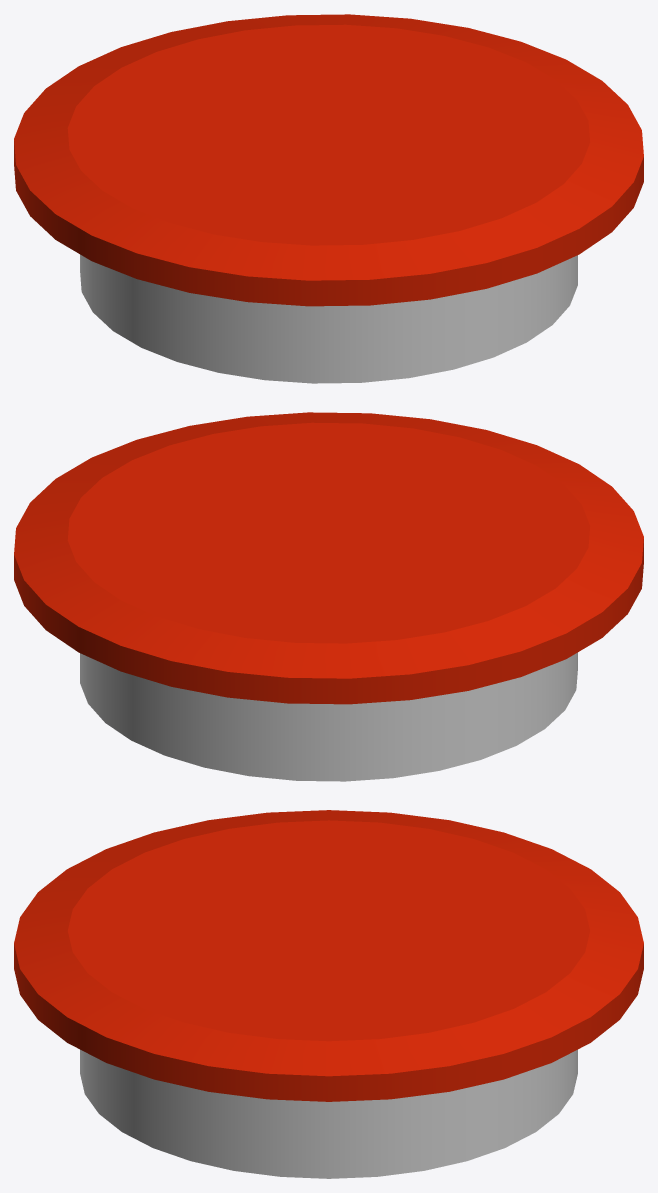
Rendered from 4_podium_low.fbx.
The picture shows the model from 3 angles, top to bottom: view 1: azimuth 30°, elevation 25°; view 2: azimuth 150°, elevation 25°; view 3: azimuth 270°, elevation 25°; orthographic projection.
Parts seen in each view (by area): view 1: 4_low; view 2: 4_low; view 3: 4_low.
Part boxes in pixels (<box>): 4_low: <box>14,14,643,383</box>; 4_low: <box>14,412,643,781</box>; 4_low: <box>14,810,643,1178</box>.
Size of the model in its own units: 463 by 116 by 463.
